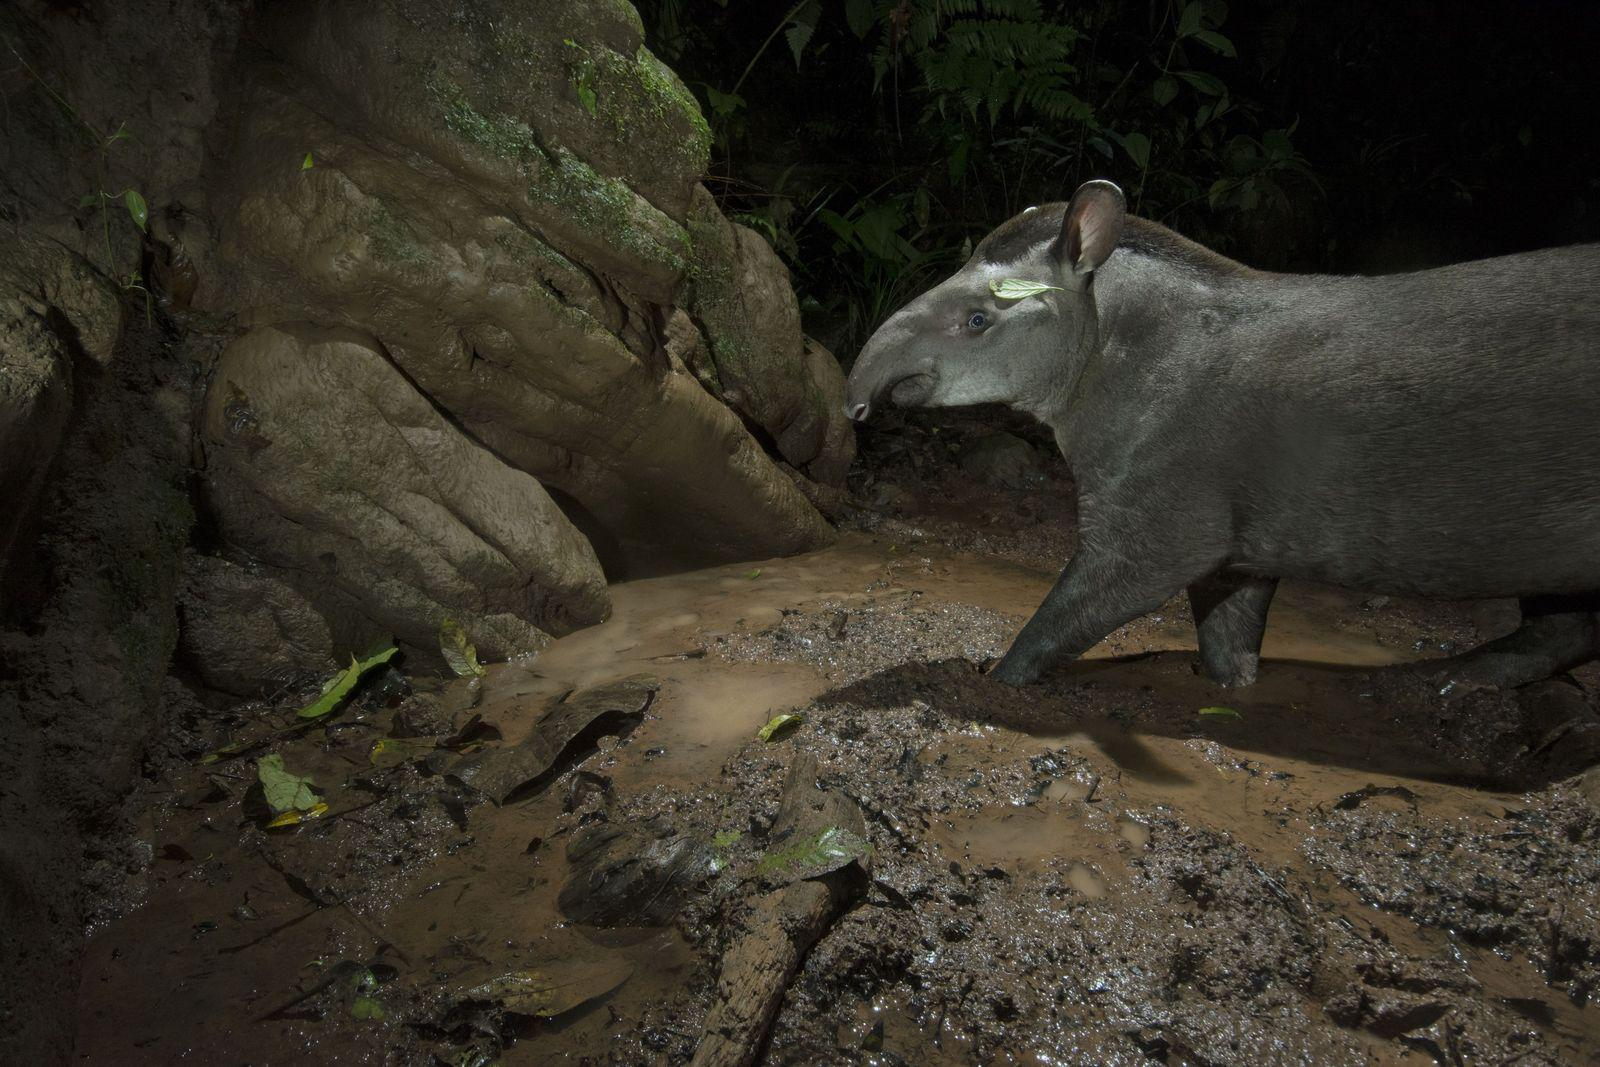Anta: (830, 164, 1587, 720)
